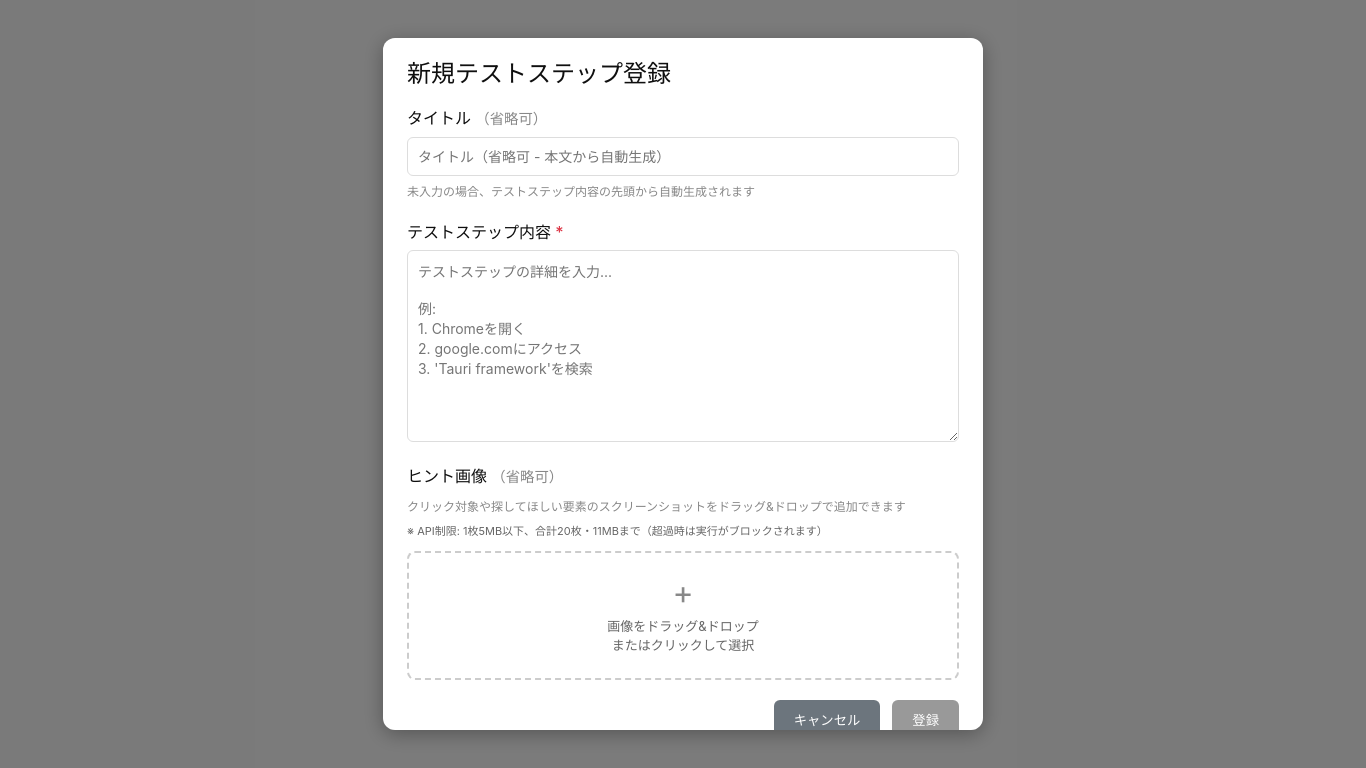
Test case: ScenarioForm Component › Save Button State › should enable save button when description has content
The image size is (1366, 768).
Replace the text in the text box with id "description-input" with "Some description": (683, 346) [407, 250, 959, 442]
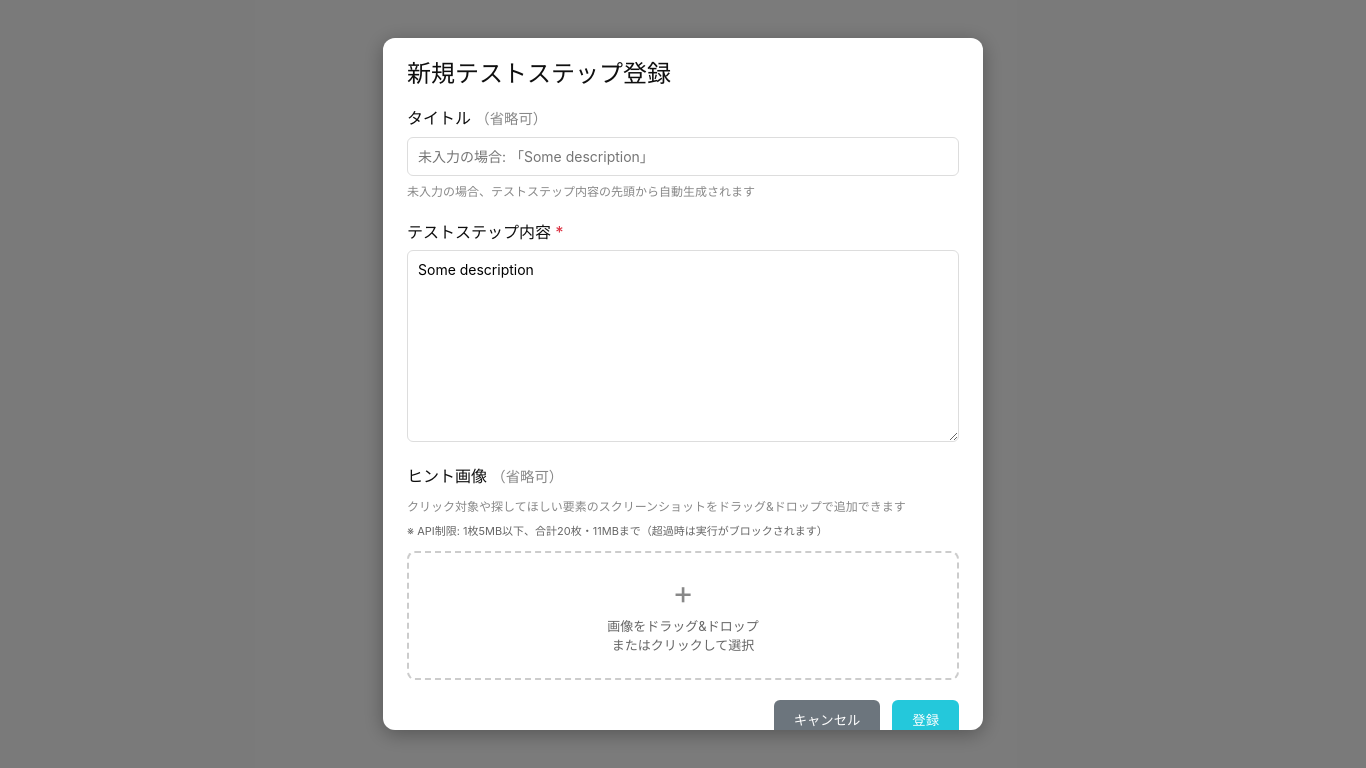
Expected: the button "登録" is enabled, [892, 700, 959, 730]
